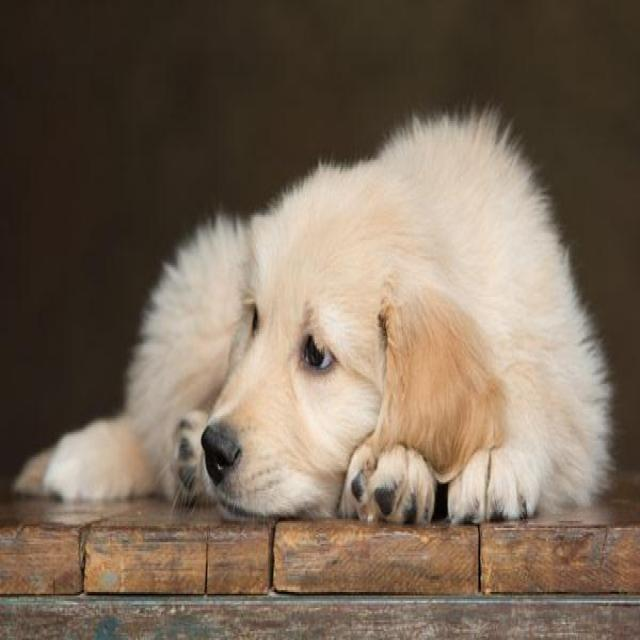dog: (92, 47, 616, 560)
